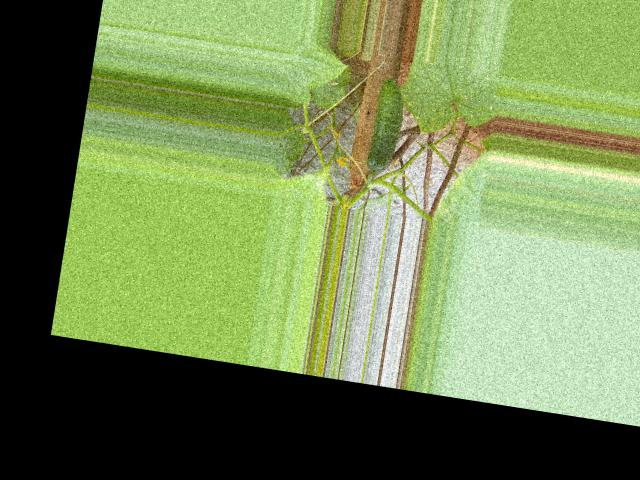cucumber: (364, 76, 408, 174)
